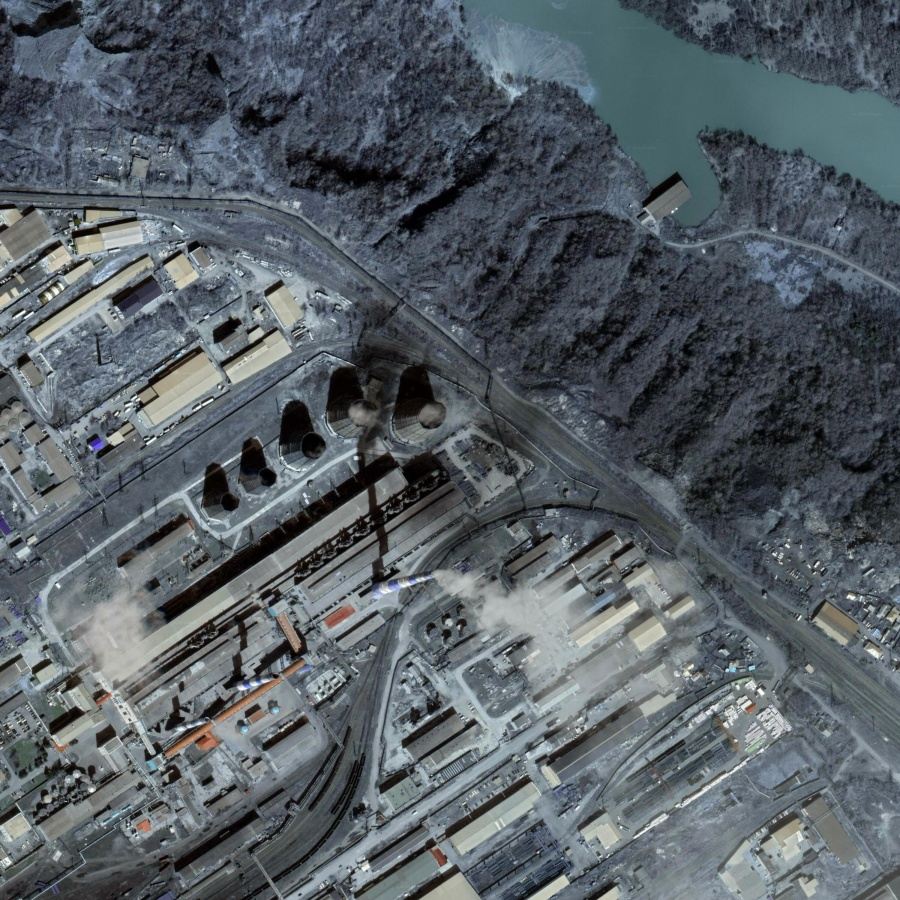PowerPlant: (103, 343, 550, 713)
